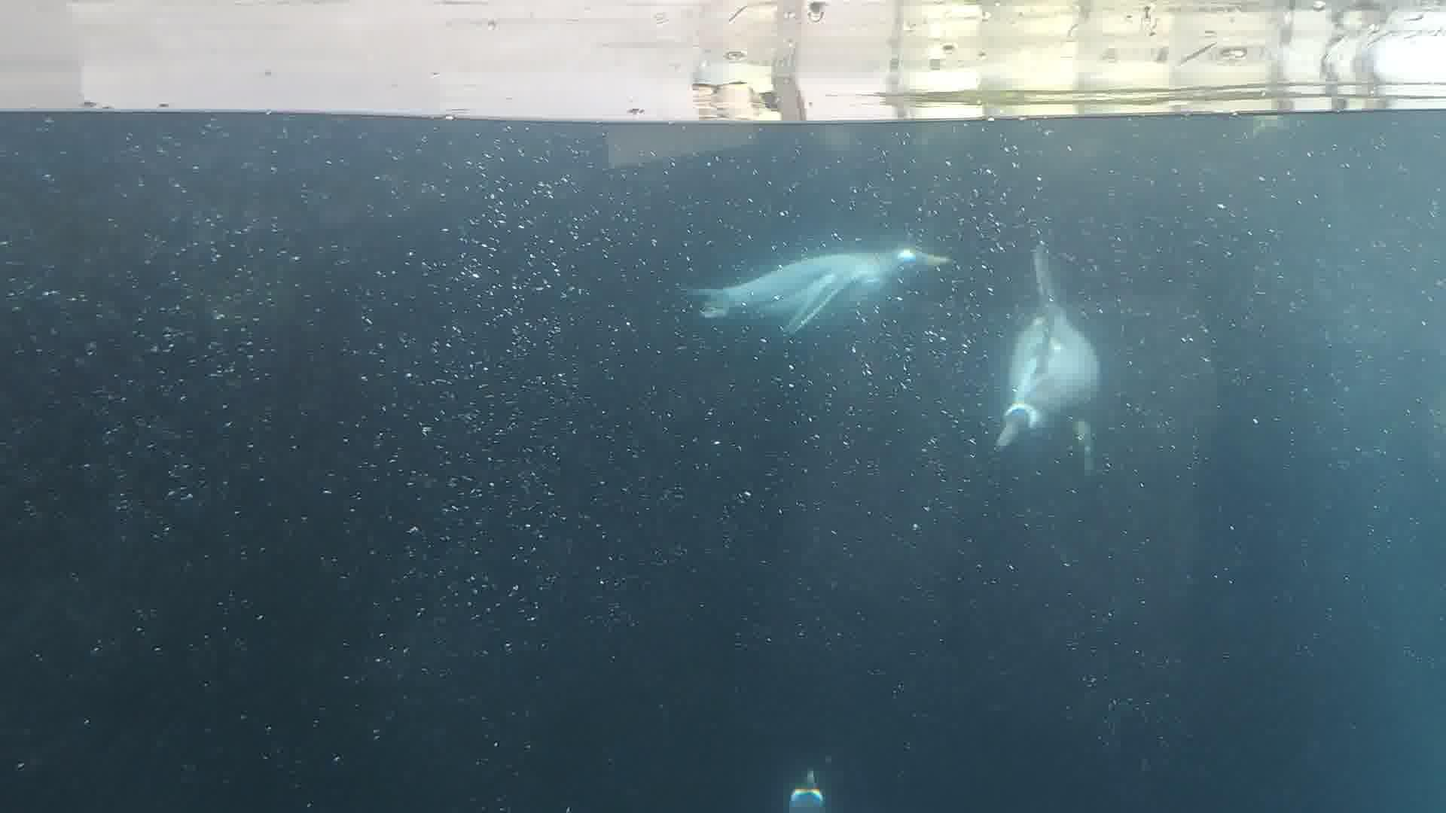apple: (994, 244, 1103, 483), (688, 244, 953, 337)
